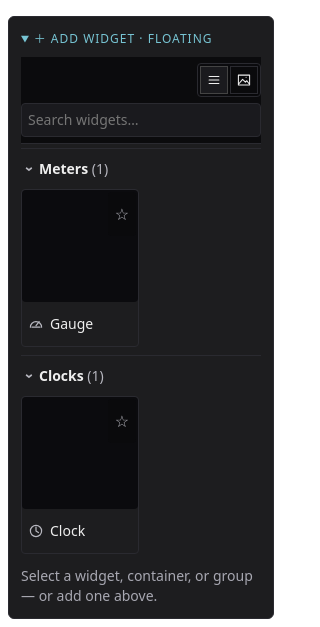
Test: Inspector add-palette — filter › narrows widgets, templates and library to the query, then shows an empty state
Type "gauge" into the search field named "Filter the add palette" at (141,120), box [21,103,261,137]
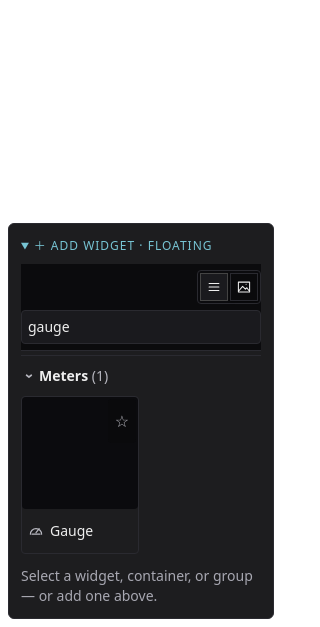
Expected: the button "Gauge" is shown, [22,509,138,553]
Expected: the button "Clock" is gone
Replace the text in the search field named "Filter the add palette" with "zzz-no-such-widget" at (141,327), box [21,310,261,344]
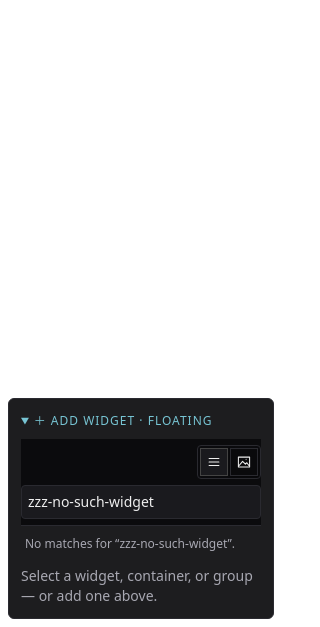
Expected: the text "No matches for “zzz-no-such-widget”." is shown, [21,530,261,558]
